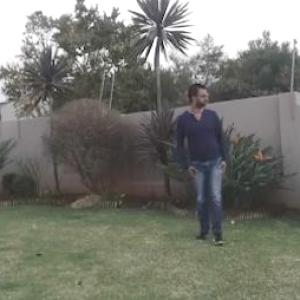follow: (182, 78, 230, 247)
